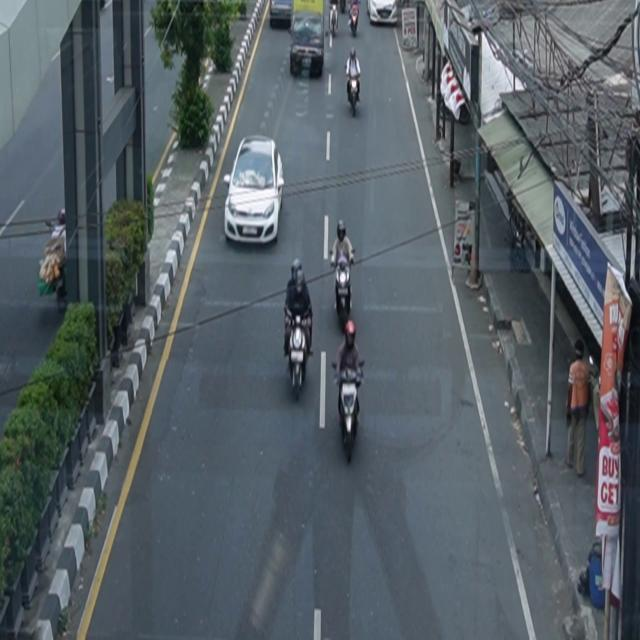car: (224, 135, 285, 246), (290, 12, 325, 79)
